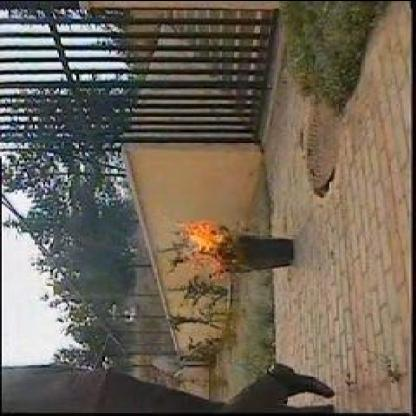foggia-v2-map80-epoch100 - v1 4323: (170, 216, 234, 266)
